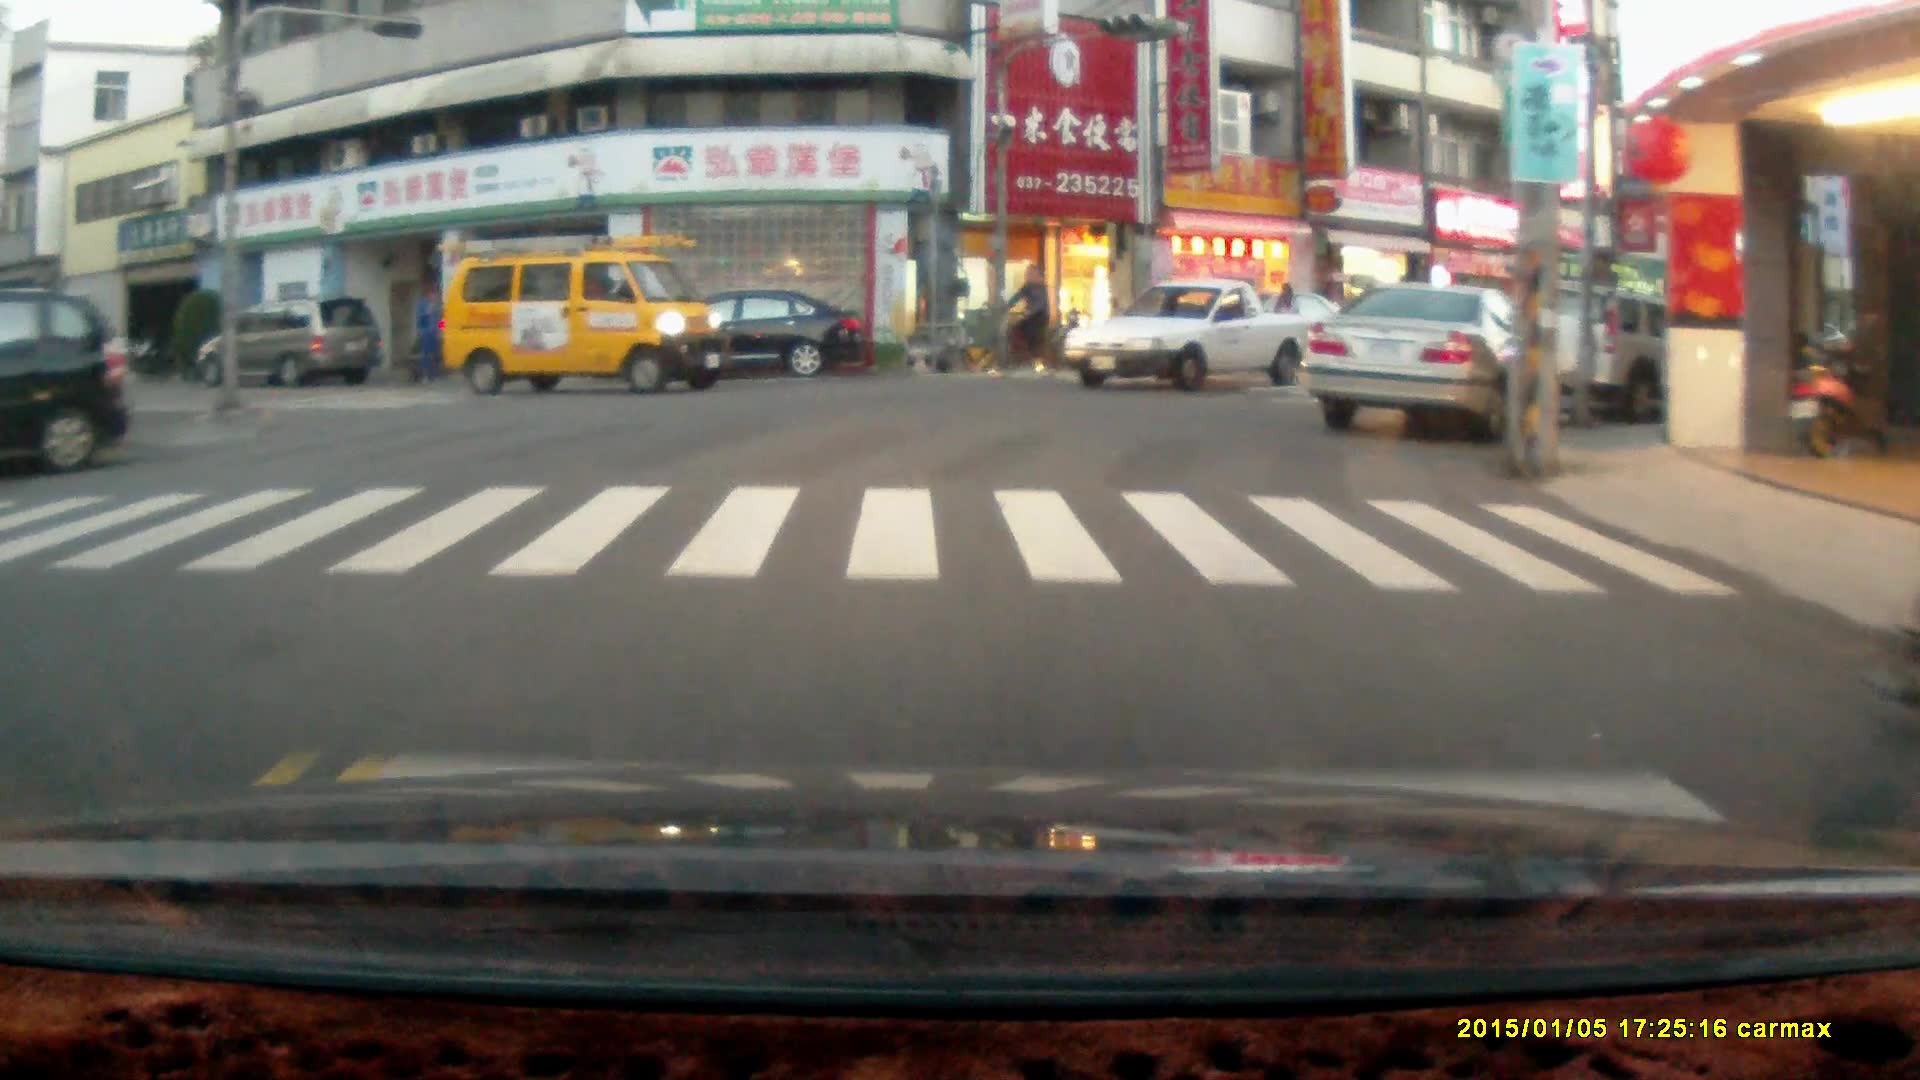pedestrian: (412, 282, 444, 379)
rider: (978, 261, 1061, 380)
vehicle: (442, 233, 723, 399), (1304, 281, 1560, 442), (1503, 285, 1751, 429), (1061, 273, 1326, 400), (3, 293, 130, 469), (637, 297, 868, 385), (196, 296, 386, 393)
